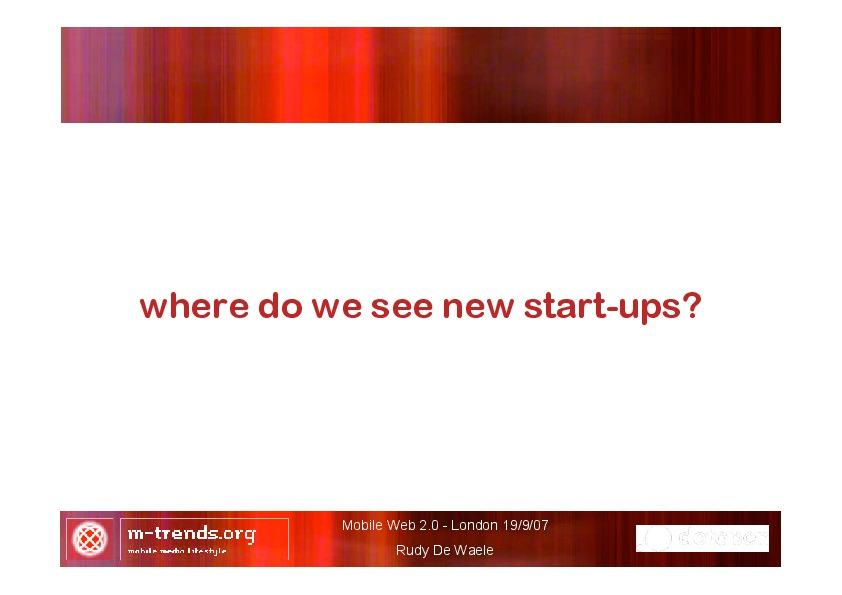title: (132, 270, 721, 340)
